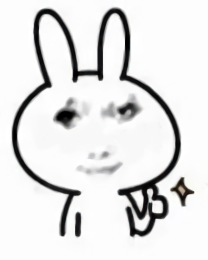dragon: (52, 95, 145, 174)
